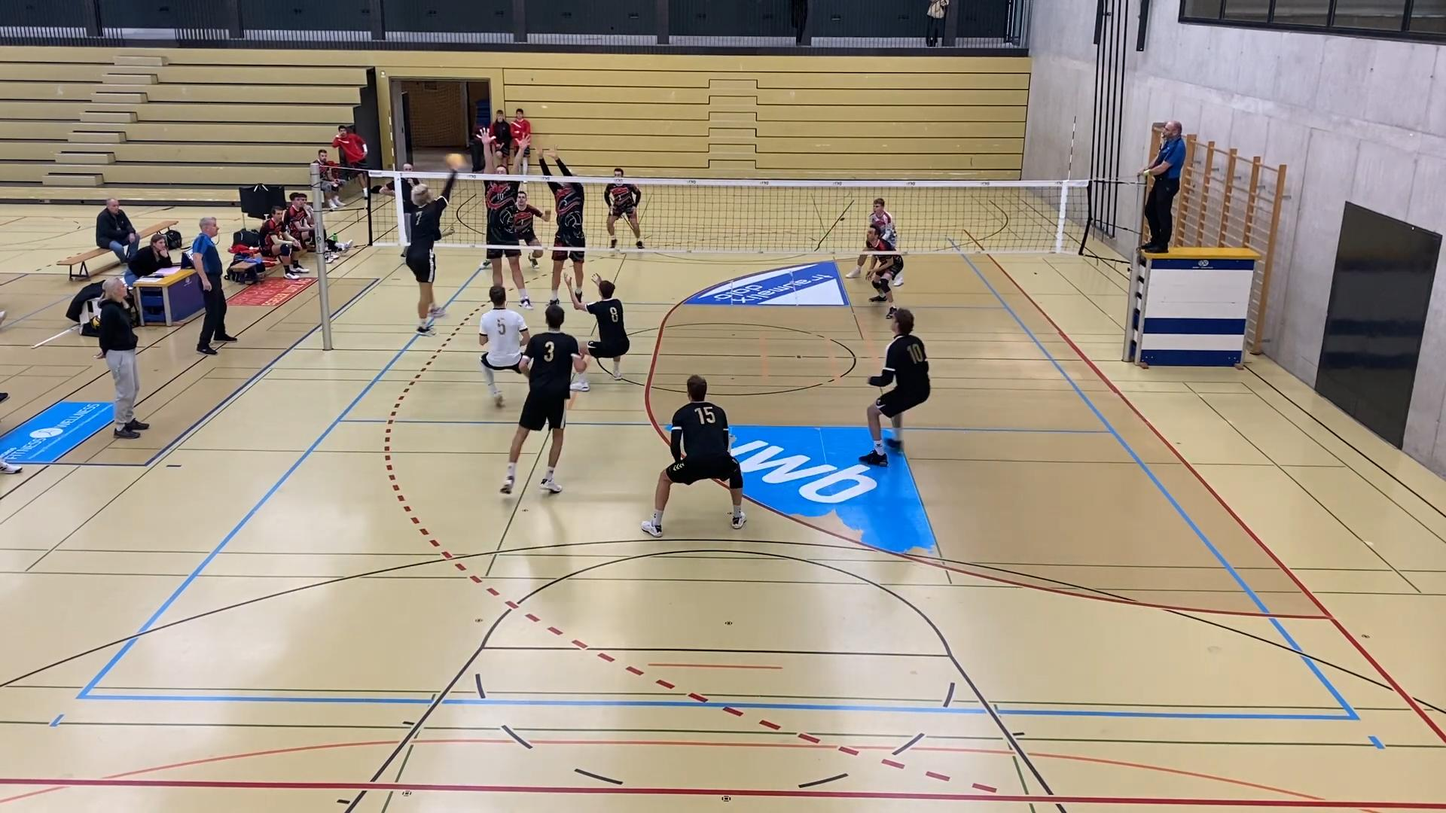Attack: (402, 163, 456, 338)
Block: (533, 141, 588, 310), (481, 127, 532, 309)
Player: (641, 376, 745, 537), (500, 306, 586, 493), (859, 309, 929, 465), (479, 285, 529, 406), (573, 274, 630, 379), (866, 227, 903, 317), (604, 168, 643, 248), (514, 190, 550, 267), (869, 198, 896, 245)
ball: (445, 152, 466, 170)
